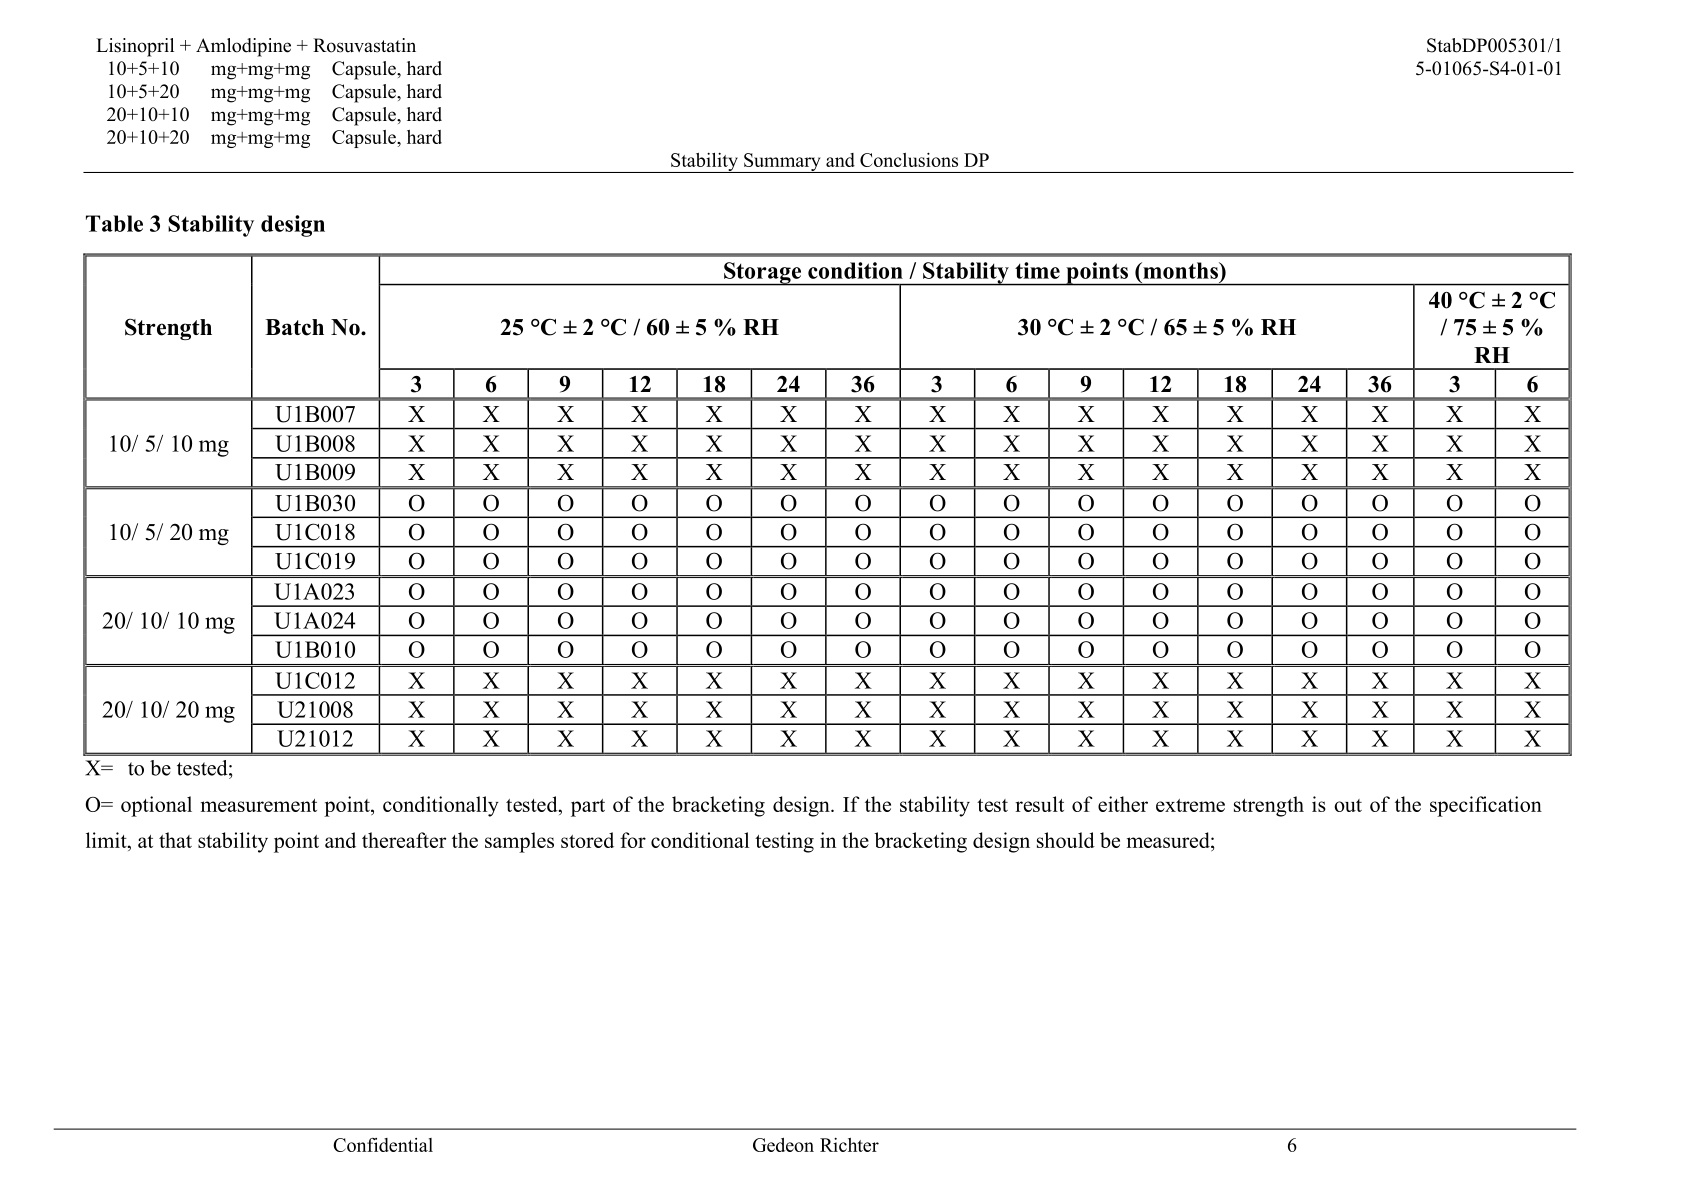merged_cells: (82, 253, 1574, 757)
nolines: (95, 35, 445, 151)
